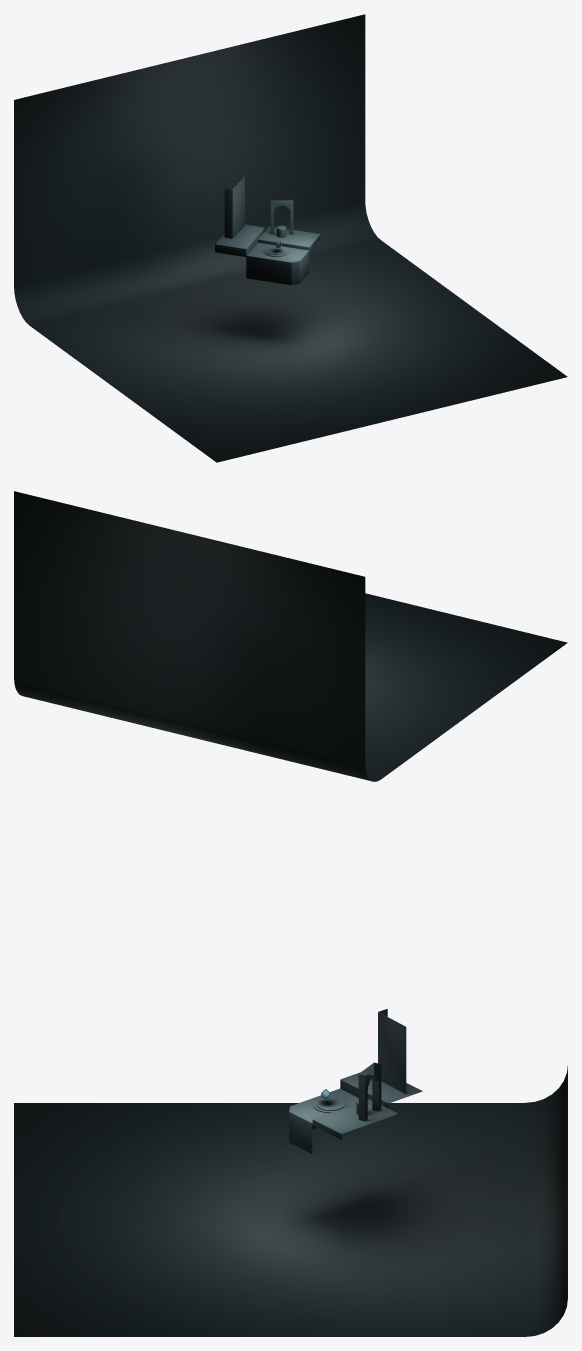
Rendered from abstractRose.glb.
3 views of the same model, one above another, from view 1: azimuth 30°, elevation 25°; view 2: azimuth 150°, elevation 25°; view 3: azimuth 270°, elevation 25° (orthographic). The views are drawn at different scales.
Parts seen in each view (by area): view 1: BKG.002, Cylinder.064; view 2: BKG.002; view 3: BKG.002, Cylinder.064.
Part boxes in pixels (box(x1,y1,x2,y2)): BKG.002: box(14, 14, 567, 462); Cylinder.064: box(215, 176, 320, 285); BKG.002: box(14, 491, 567, 781); BKG.002: box(14, 1066, 567, 1336); Cylinder.064: box(289, 1009, 422, 1153).
Bounding box in the file's own units: 85.67 × 49.96 × 85.67.
Materials: 4 (4 with a texture image).
